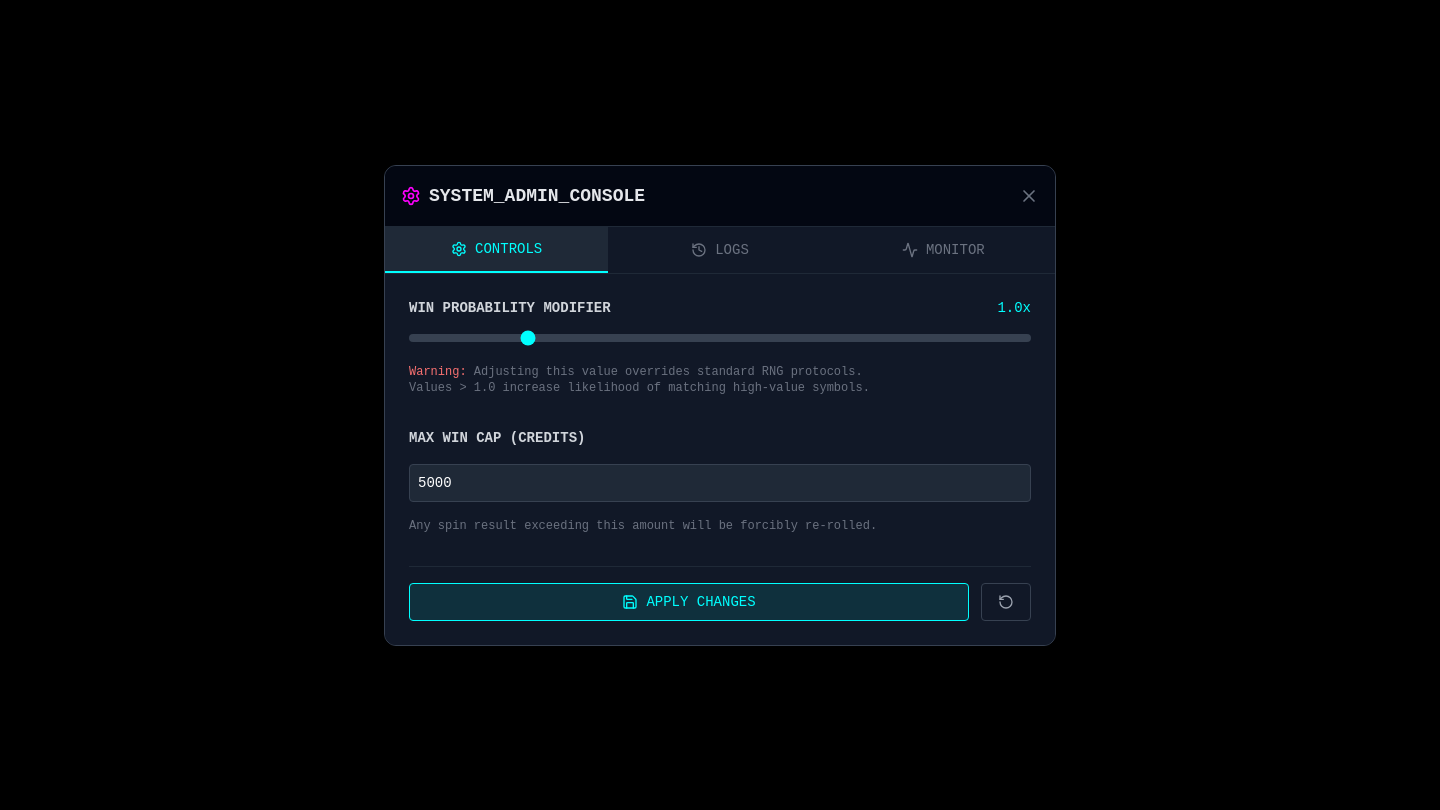
AdminPanel › shows exit confirmation when closing with unsaved changes
// Change the max win cap to create unsaved changes
Step 1. Replace the text in the number field showing "5000" with "9999" → (720, 482), box [409,464,1031,502]
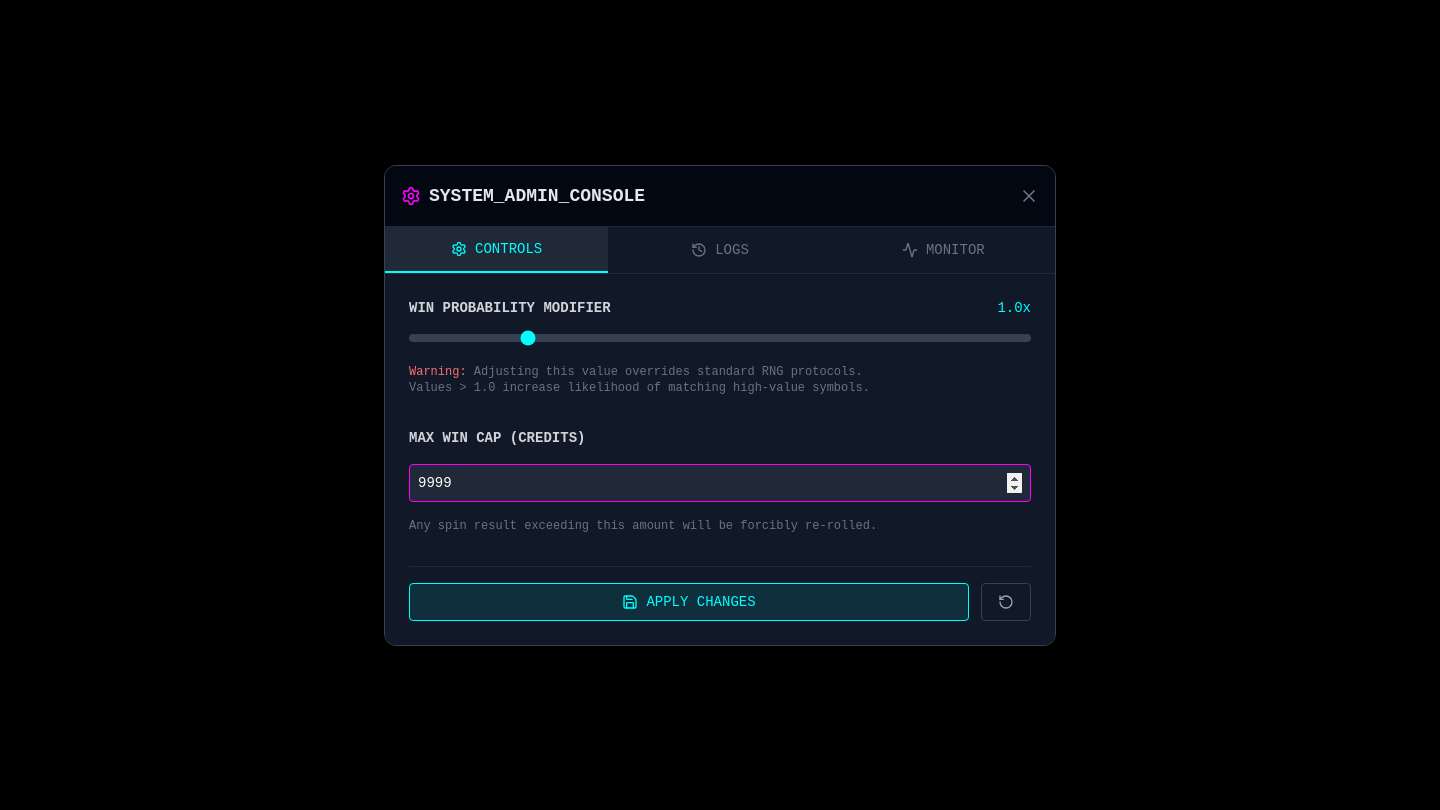
// Click X to close
Step 2. Click the 1st button → (1029, 196), box [1019,186,1039,206]
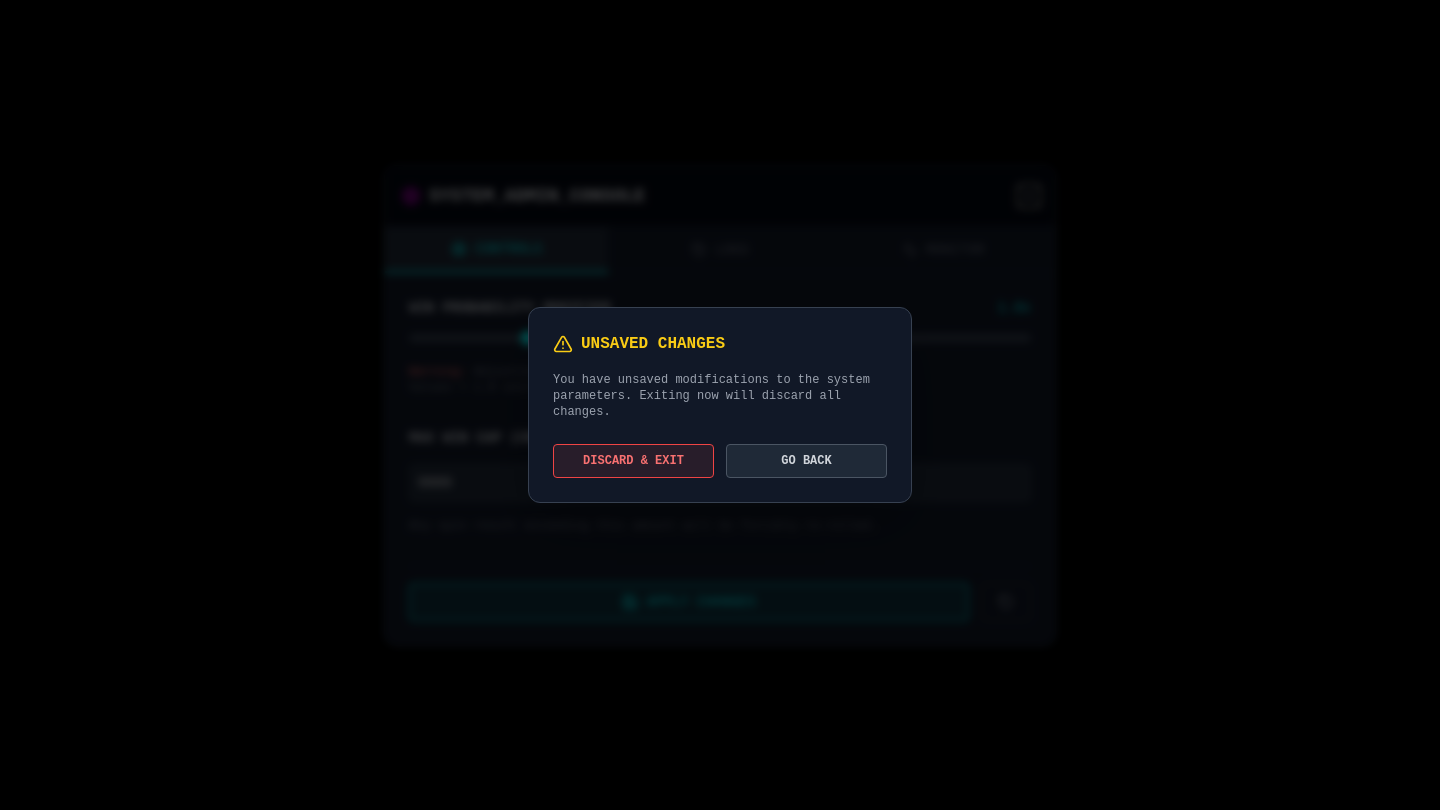
Now the heading "Unsaved Changes" is shown, box [581,332,725,356]
Now the button "Discard & Exit" is shown, box [553,444,714,478]
Now the button "Go Back" is shown, box [726,444,887,478]
